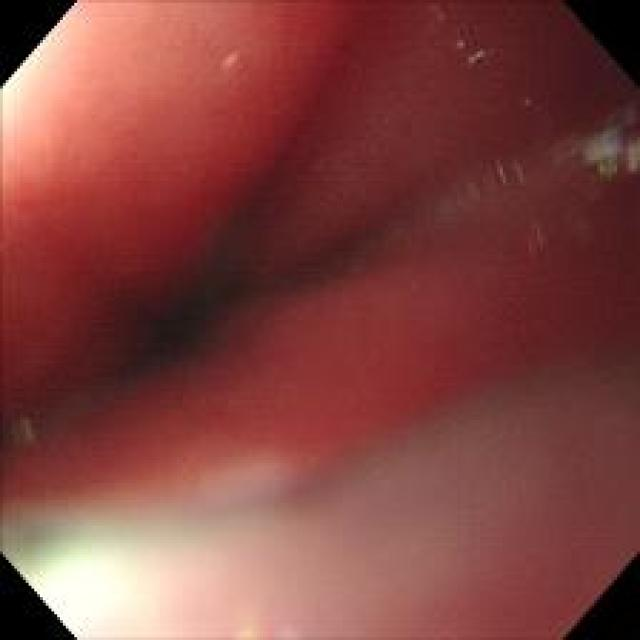blur: (15, 21, 599, 614)
color misalignment: (4, 496, 279, 635), (584, 116, 638, 195), (9, 401, 44, 450), (492, 158, 531, 191), (220, 44, 254, 81), (462, 45, 491, 72), (530, 216, 548, 249)
contrast: (94, 218, 262, 392)
saturation: (19, 545, 160, 635)
